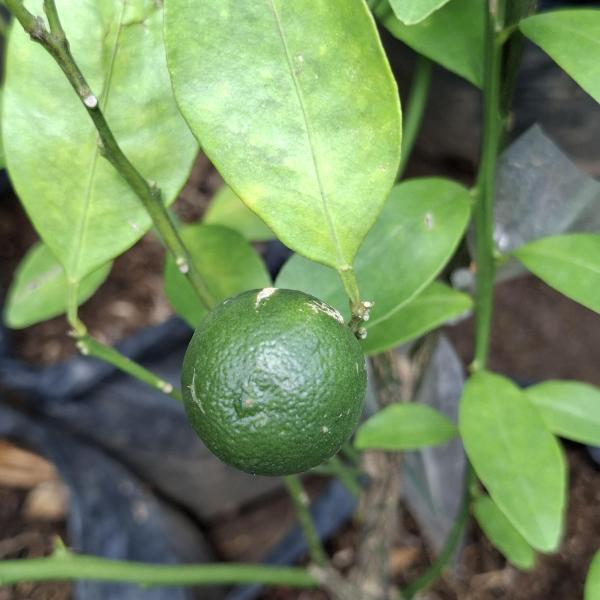Scab: (174, 265, 392, 494)
